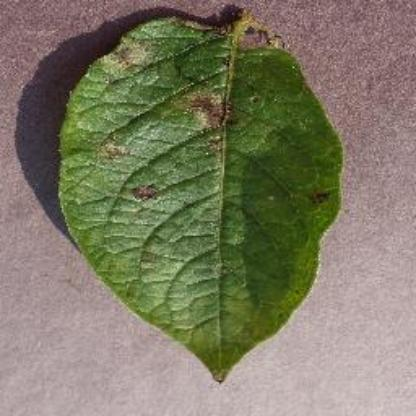Late-Blight: (56, 0, 383, 384)
